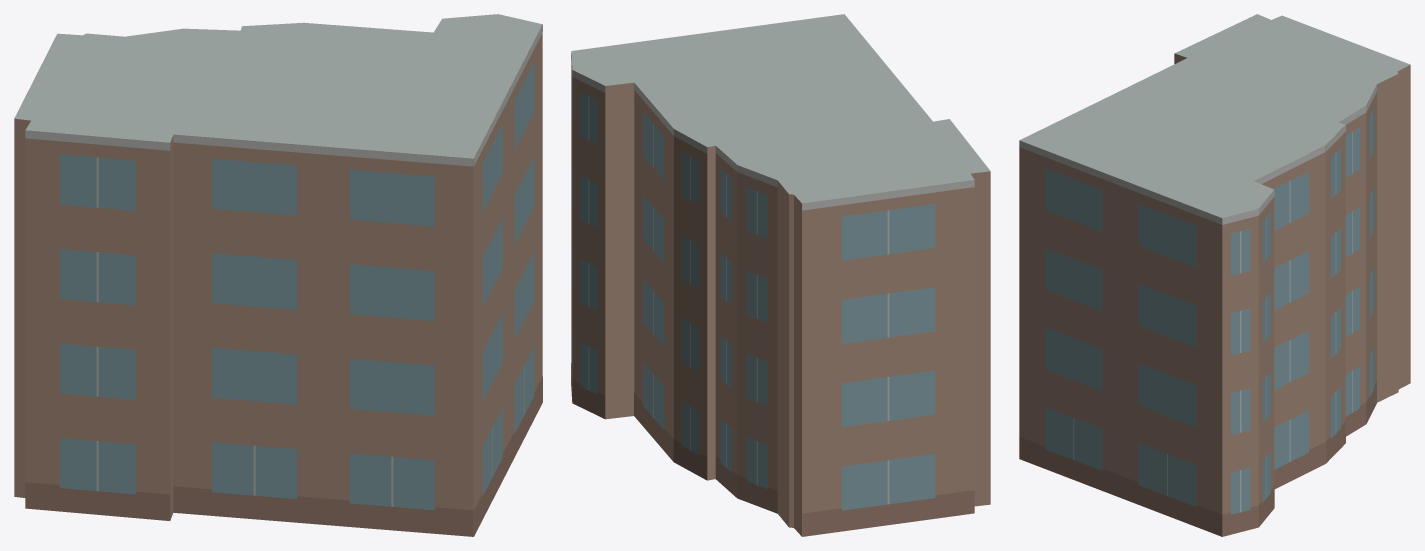
Rendered from survey-upis-32910817.glb.
The picture shows the model from 3 angles, left to right: view 1: azimuth 30°, elevation 25°; view 2: azimuth 150°, elevation 25°; view 3: azimuth 270°, elevation 25°; orthographic projection. The views are drawn at different scales.
Parts seen in each view (by area): view 1: survey-upis-32910817.tmp; view 2: survey-upis-32910817.tmp; view 3: survey-upis-32910817.tmp.
Boxes of the visible parts, x1,y1,x2,y2 form: survey-upis-32910817.tmp: (14,14,542,536); survey-upis-32910817.tmp: (571,14,990,536); survey-upis-32910817.tmp: (1019,14,1410,536).
Size of the model in its own units: 15.83 by 11.51 by 12.82.
